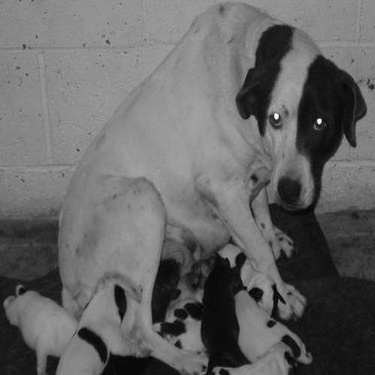dog: (45, 2, 369, 373), (59, 269, 150, 368), (225, 284, 315, 369), (6, 277, 82, 372), (203, 242, 257, 366), (236, 256, 310, 324), (172, 250, 213, 355), (206, 338, 298, 370), (255, 222, 297, 262)
